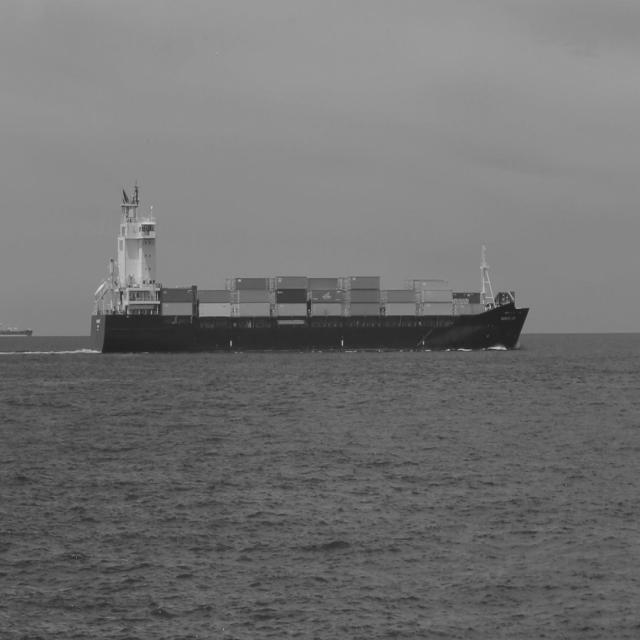ship: (88, 184, 530, 358)
